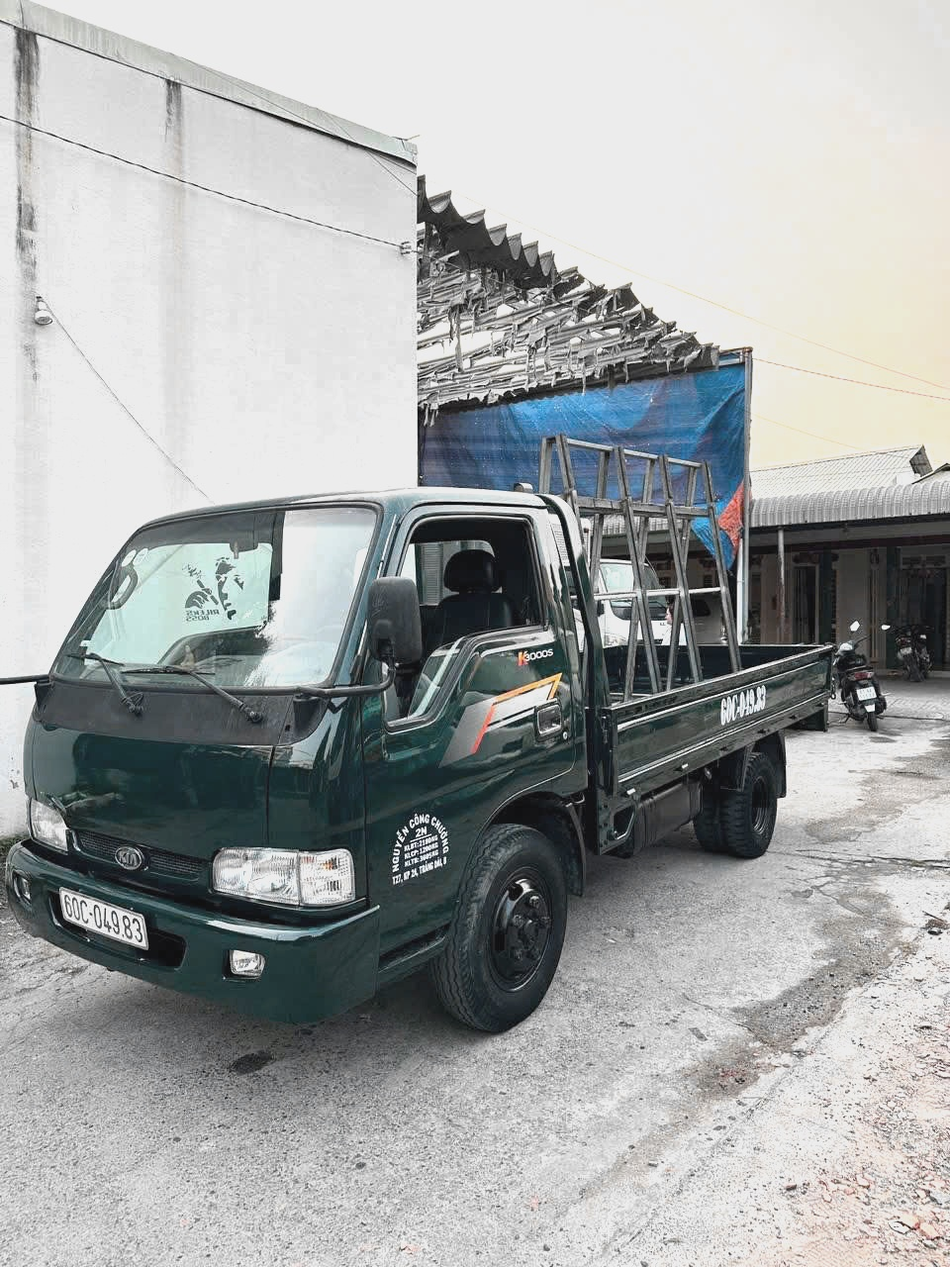Bien-so: (0, 820, 115, 900)
